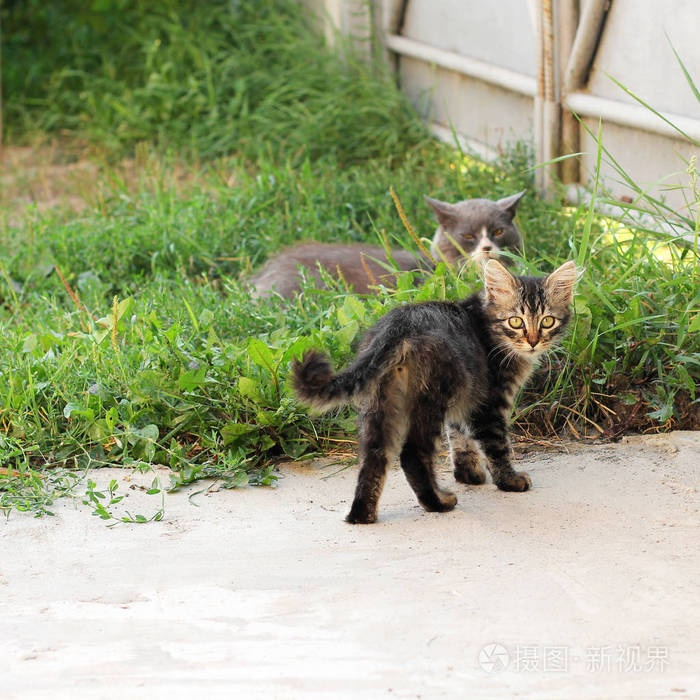cat: (288, 258, 576, 526), (239, 188, 527, 314)
